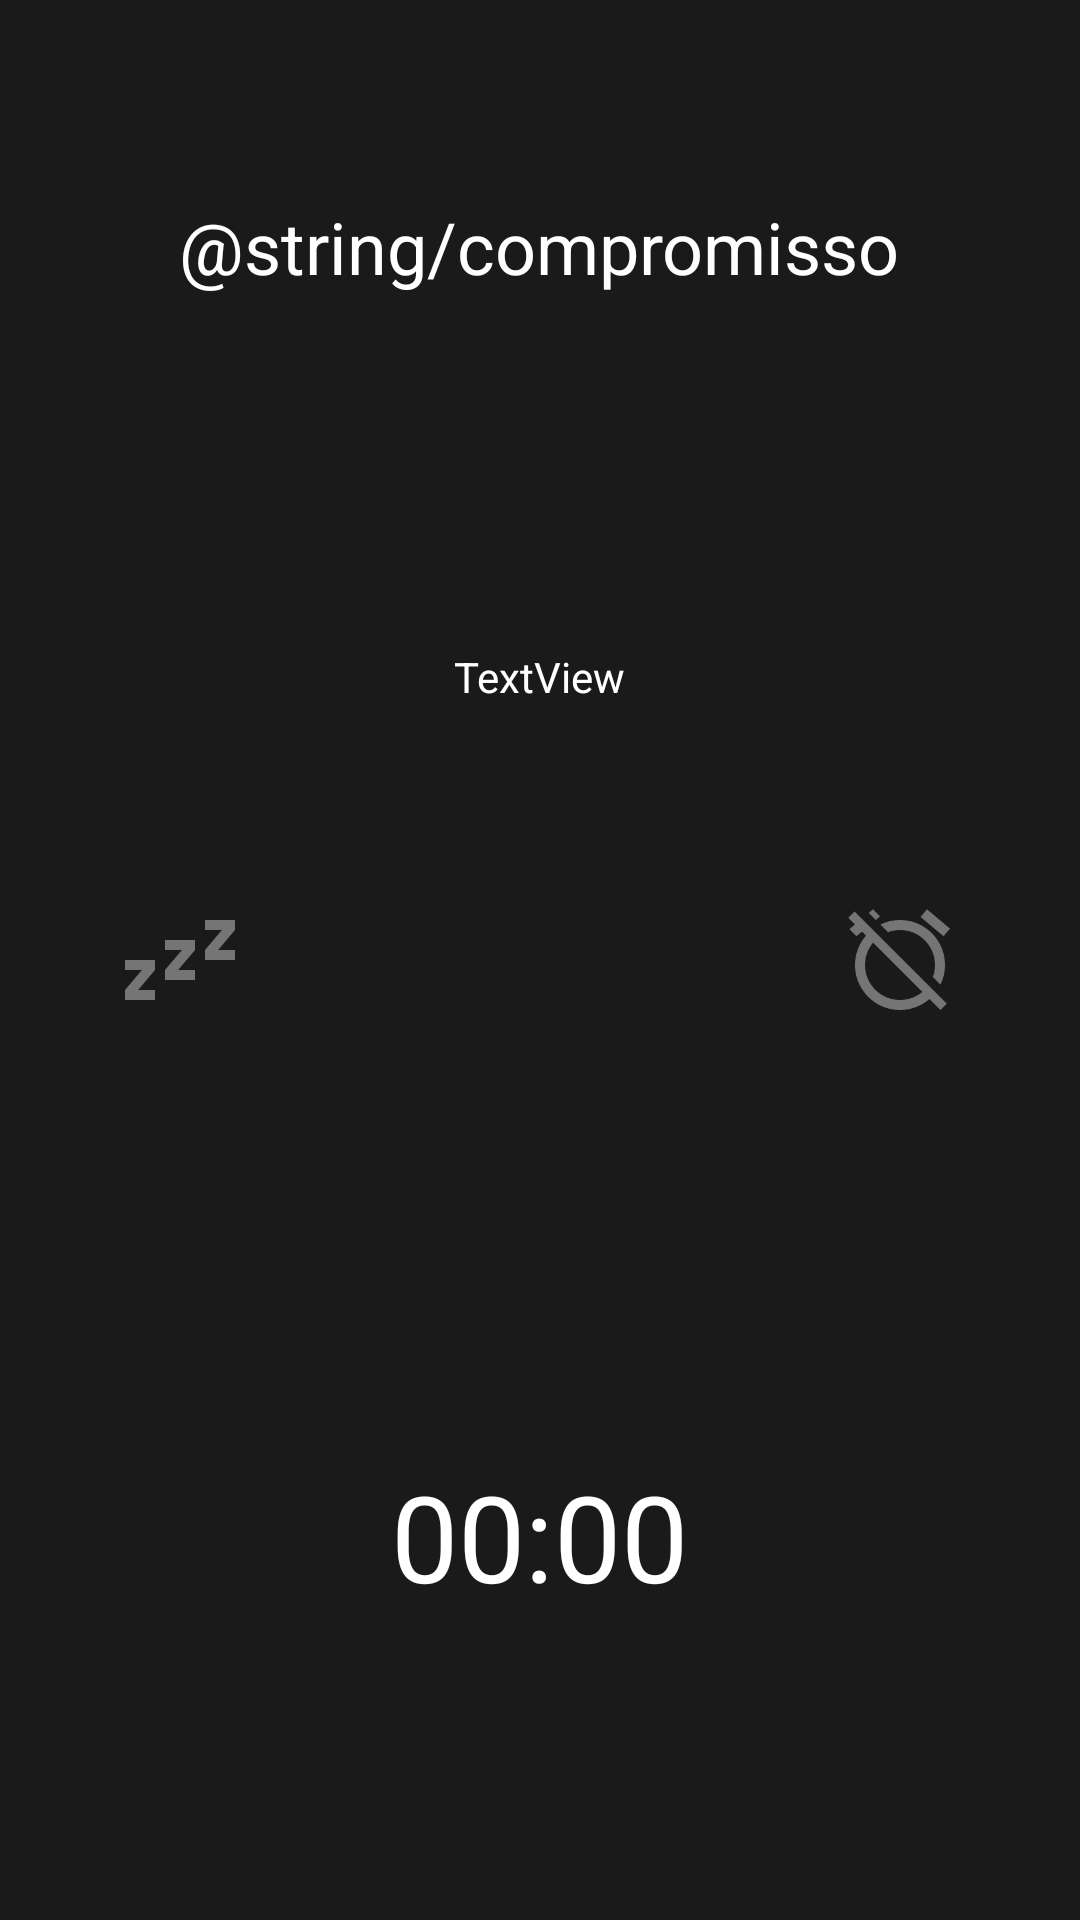

Where icons sit on this 1080*1920 app screen, as (x1, y1, x2, y2):
alarm off: (848, 909, 950, 1010)
sleep: (125, 920, 235, 1000)
